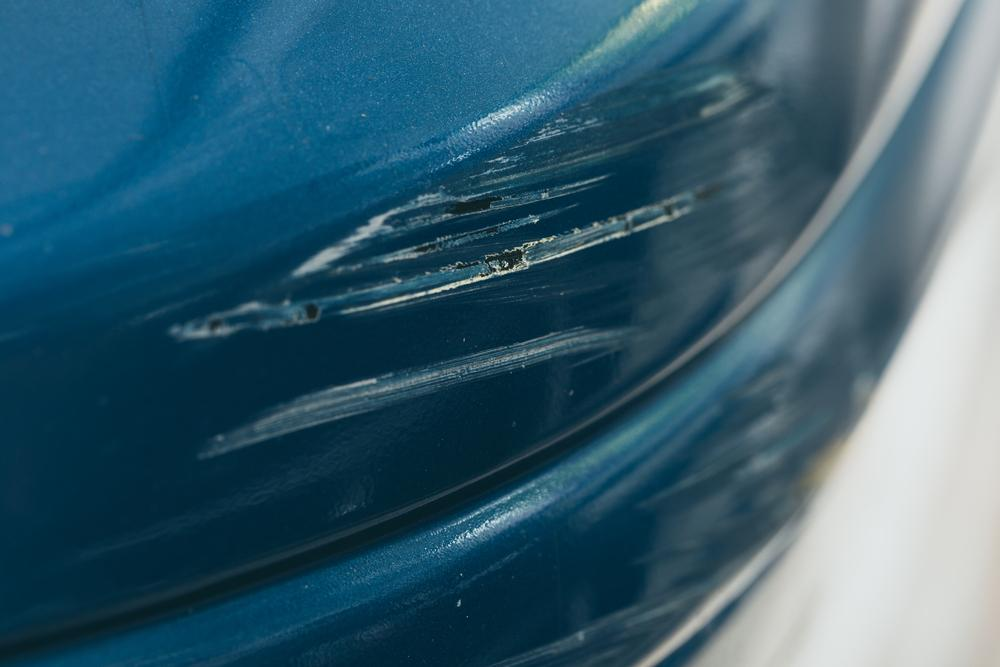scratch: (166, 63, 817, 461)
